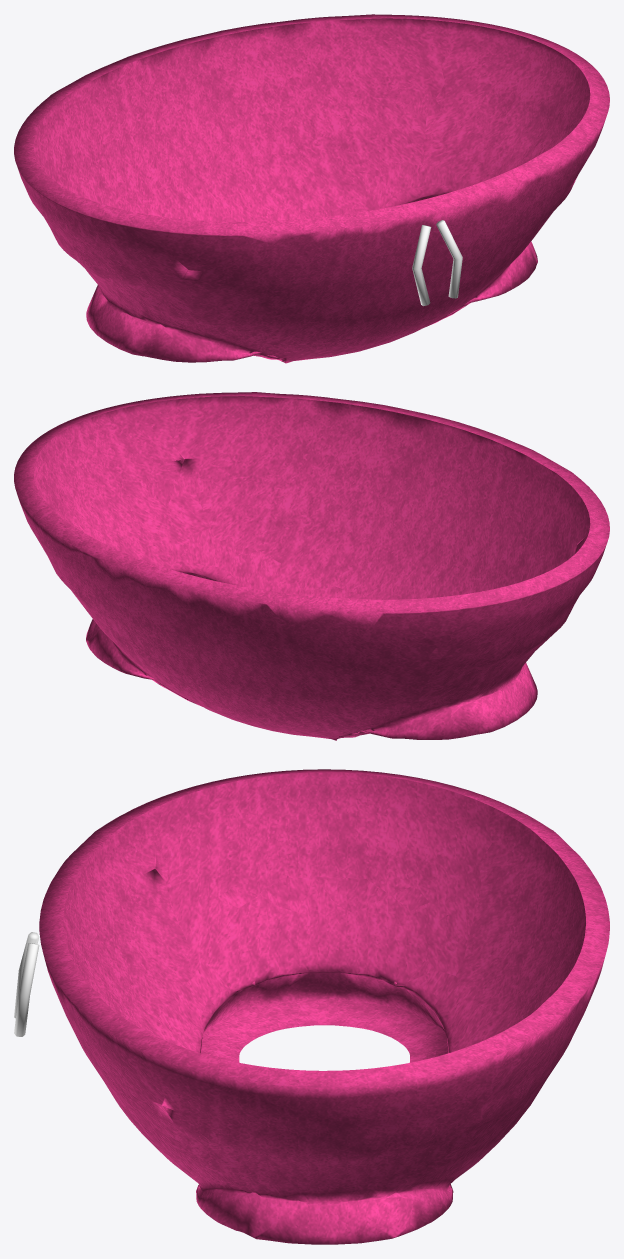
File: trunks2.fbx
3 renders of one model, top to bottom at view 1: azimuth 30°, elevation 25°; view 2: azimuth 150°, elevation 25°; view 3: azimuth 270°, elevation 25°, orthographic. The views are drawn at different scales.
Parts seen in each view (by area): view 1: trunks2; view 2: trunks2; view 3: trunks2.
Part boxes in pixels (left/top/right/bottom): trunks2: left=14, top=14, right=609, bottom=363; trunks2: left=14, top=392, right=609, bottom=740; trunks2: left=14, top=769, right=609, bottom=1244.
Bounding box in the file's own units: 0.7932 × 0.2807 × 0.6278.
2 materials, 1 textured.
